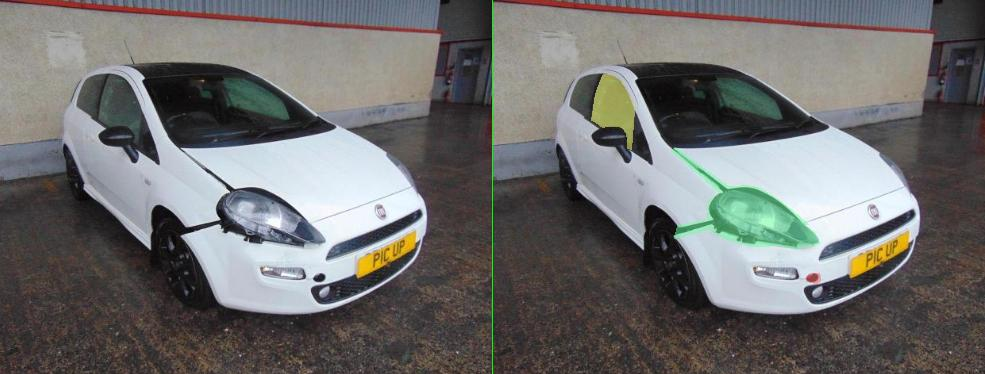Broken part: (356, 147, 631, 224), (430, 189, 653, 248), (428, 192, 553, 246), (362, 218, 448, 238)
Cracked: (196, 74, 282, 149)
Missing part: (627, 273, 655, 283)
